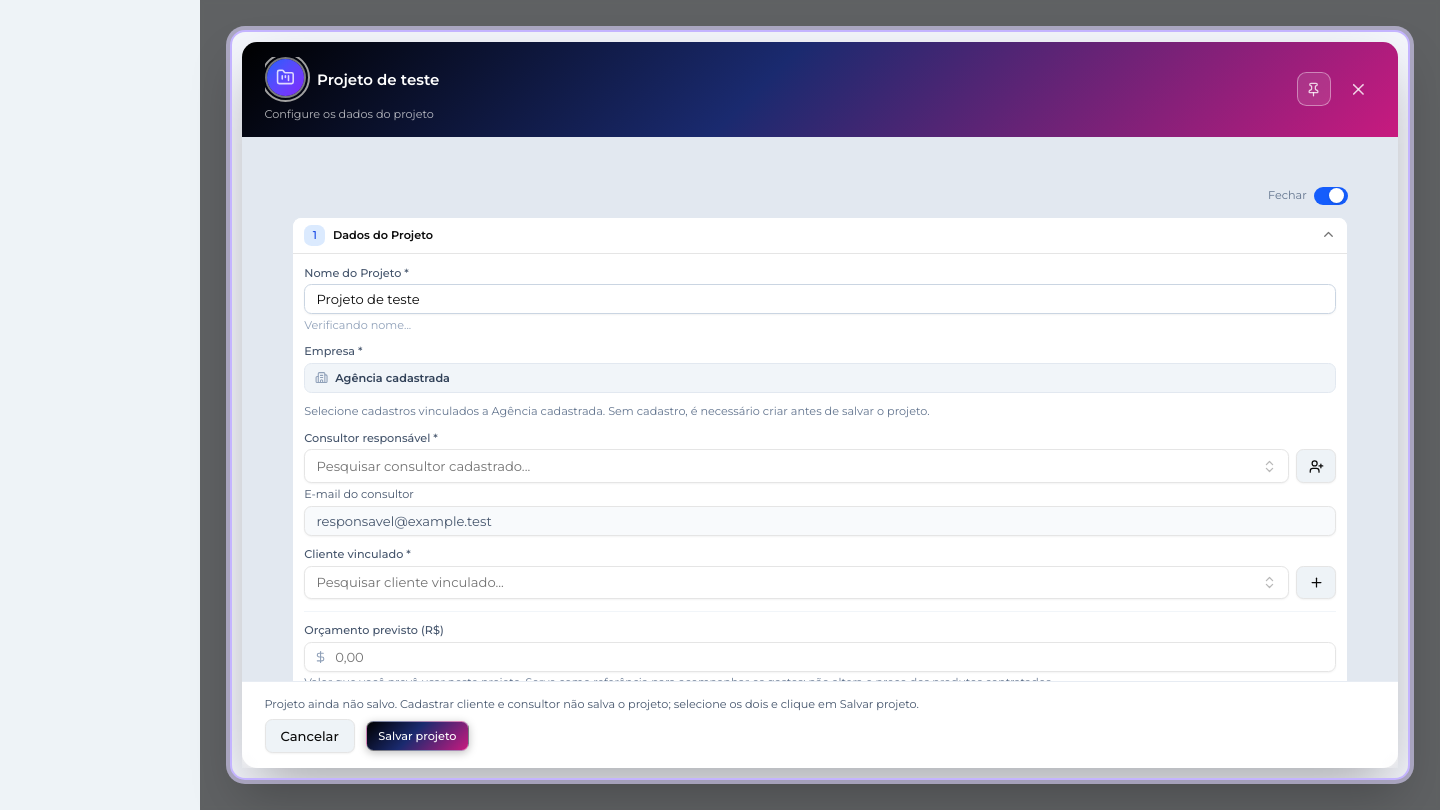
Formulário REAL de projeto dentro do checkout › nomes preenchidos sem seleção de cadastro não salvam o projeto
Click the button "Salvar projeto" at {"x": 417, "y": 736}, box x1=366 y1=721 x2=469 y2=751
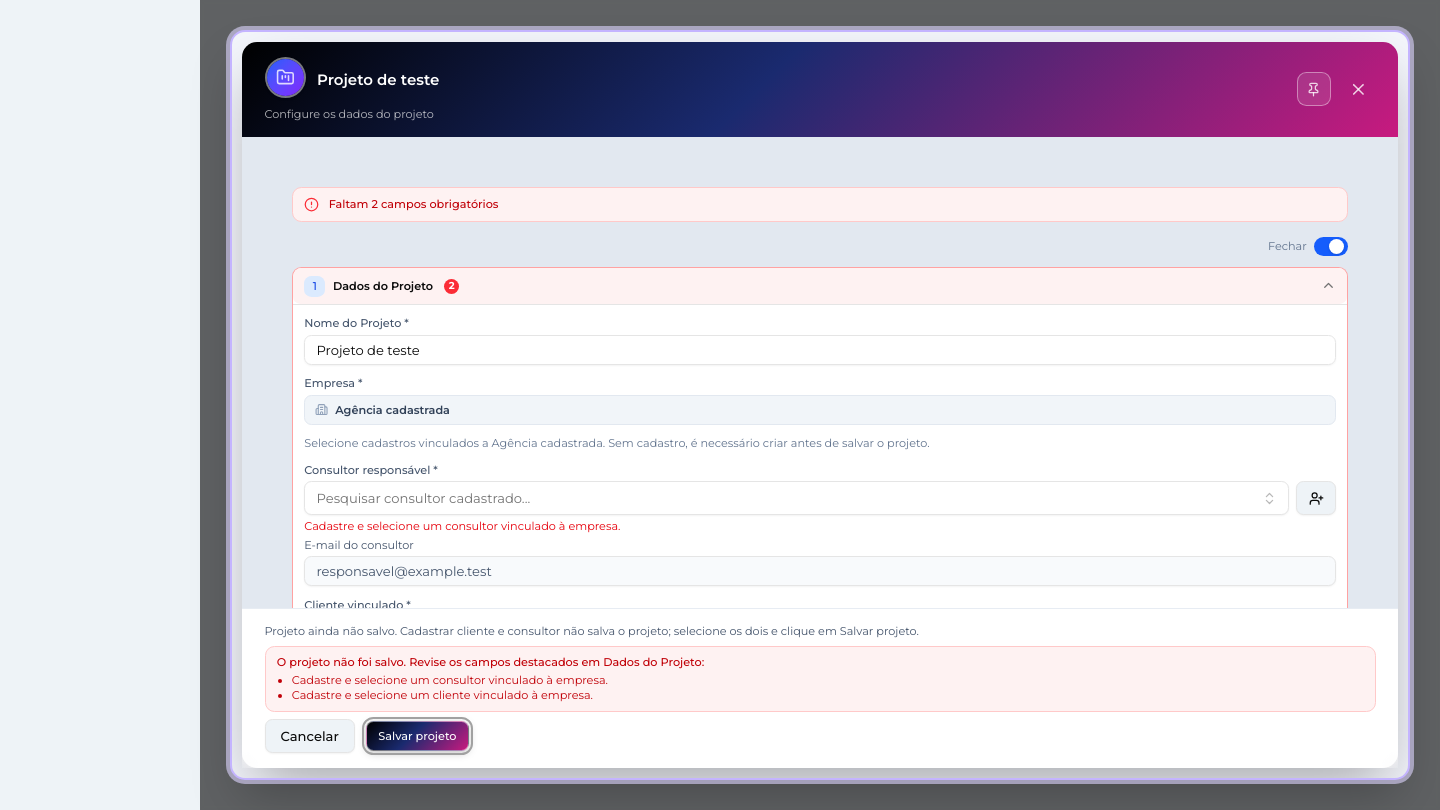
Expected: the message with test id "project-save-validation" shows "Cadastre e selecione um consultor vinculado à empresa.", x1=292 y1=673 x2=608 y2=687
Expected: the message with test id "project-save-validation" shows "Cadastre e selecione um cliente vinculado à empresa.", x1=292 y1=688 x2=593 y2=702
